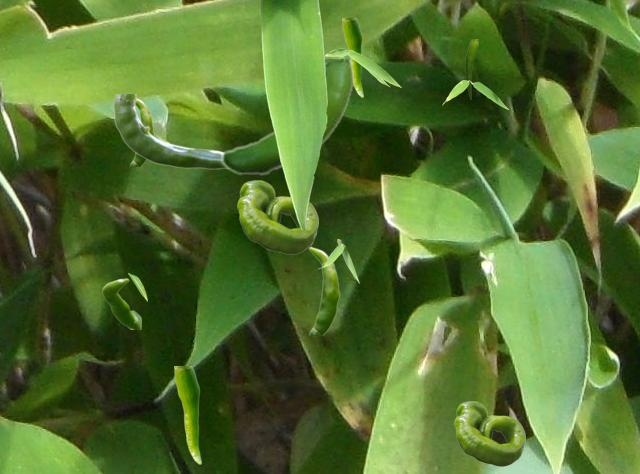green_chili: (220, 59, 352, 175), (113, 94, 222, 168), (237, 180, 317, 253), (454, 401, 524, 465), (308, 246, 339, 334), (174, 366, 200, 463), (102, 278, 140, 328), (129, 98, 153, 165), (342, 18, 362, 96), (465, 39, 477, 98)
